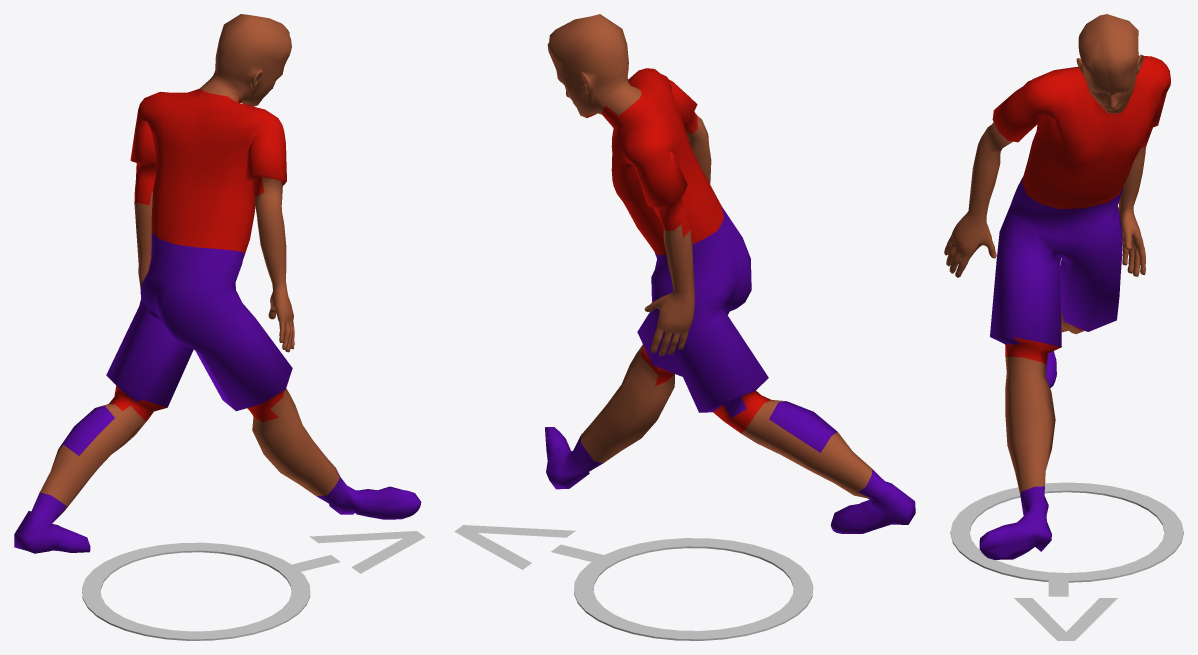
The model's file is player_000033.obj.
3 views of the same model, side by side, from view 1: azimuth 30°, elevation 25°; view 2: azimuth 150°, elevation 25°; view 3: azimuth 270°, elevation 25° (orthographic). The views are drawn at different scales.
Visible parts, largest first — view 1: soccerplayer.002_mesh.003, Circle, Text.001_Mesh.001; view 2: soccerplayer.002_mesh.003, Circle, Text.001_Mesh.001; view 3: soccerplayer.002_mesh.003, Circle, Text.001_Mesh.001.
Part boxes in pixels (box(x1,y1,x2,y2)): soccerplayer.002_mesh.003: box(14, 14, 421, 553); Circle: box(82, 542, 310, 640); Text.001_Mesh.001: box(287, 531, 425, 573); soccerplayer.002_mesh.003: box(545, 14, 915, 533); Circle: box(574, 538, 813, 640); Text.001_Mesh.001: box(454, 525, 606, 569); soccerplayer.002_mesh.003: box(944, 14, 1170, 559); Circle: box(950, 482, 1183, 582); Text.001_Mesh.001: box(1014, 574, 1117, 640).
Bounding box in the file's own units: 2.29 × 2.86 × 1.12.
